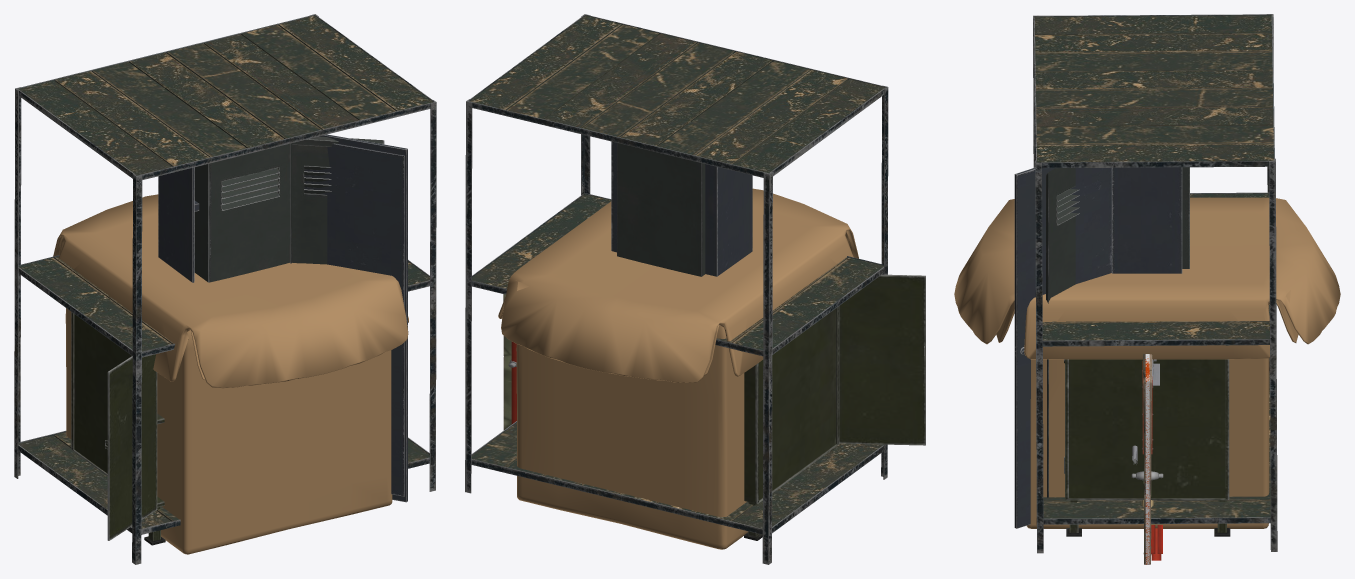
Rendered from world.glb.
The picture shows the model from 3 angles, left to right: view 1: azimuth 30°, elevation 25°; view 2: azimuth 150°, elevation 25°; view 3: azimuth 270°, elevation 25°; orthographic projection.
Visible parts, largest first — view 1: cardbox, rack, cabinet_wo, metalbox, locker_c, locker_o; view 2: cardbox, rack, metalbox, locker_o, cabinet_wo, wood_leaf; view 3: rack, cardbox, metalbox, cabinet_wo, locker_o, wood_leaf, office1_leaf, fire_leaf, office2_leaf.
Part boxes in pixels (left/top/right/bottom): cardbox: left=53, top=194, right=408, bottom=554; rack: left=14, top=14, right=436, bottom=564; cabinet_wo: left=158, top=134, right=407, bottom=502; metalbox: left=71, top=312, right=165, bottom=545; locker_c: left=209, top=143, right=290, bottom=282; locker_o: left=194, top=136, right=384, bottom=282; cardbox: left=498, top=188, right=858, bottom=549; rack: left=465, top=14, right=888, bottom=564; metalbox: left=744, top=274, right=925, bottom=540; locker_o: left=617, top=143, right=705, bottom=276; cabinet_wo: left=611, top=141, right=752, bottom=276; wood_leaf: left=503, top=294, right=511, bottom=429; rack: left=1033, top=14, right=1277, bottom=553; cardbox: left=954, top=197, right=1340, bottom=528; metalbox: left=1064, top=345, right=1230, bottom=536; cabinet_wo: left=1014, top=167, right=1182, bottom=528; locker_o: left=1046, top=167, right=1189, bottom=497; wood_leaf: left=1141, top=354, right=1153, bottom=564; office1_leaf: left=1131, top=354, right=1163, bottom=564; fire_leaf: left=1132, top=359, right=1162, bottom=560; office2_leaf: left=1142, top=358, right=1153, bottom=564.
Size of the model in its own units: 2.05 by 2.13 by 1.91.
Materials: 11 (11 with a texture image).
